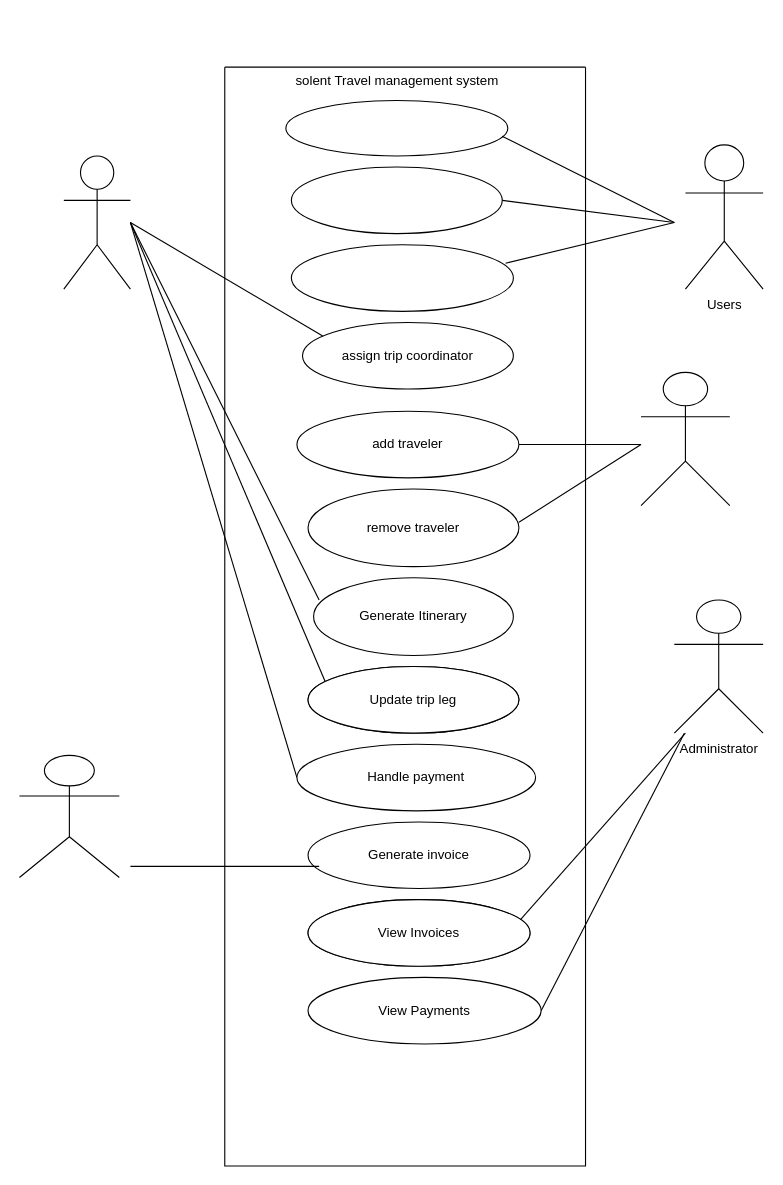
Some shapes in this 783 by 1185 pixel diagram are drawn without their labels. The box of each missing label's shape, as (x1, y1, x2, y2) in pixels:
Create trip: (285, 99, 508, 156)
delete trip: (290, 244, 513, 311)
Traveler: (640, 371, 730, 506)
Trip coordinator: (63, 155, 130, 289)
Trip Manager: (18, 754, 119, 877)
update for trip: (290, 166, 502, 234)
